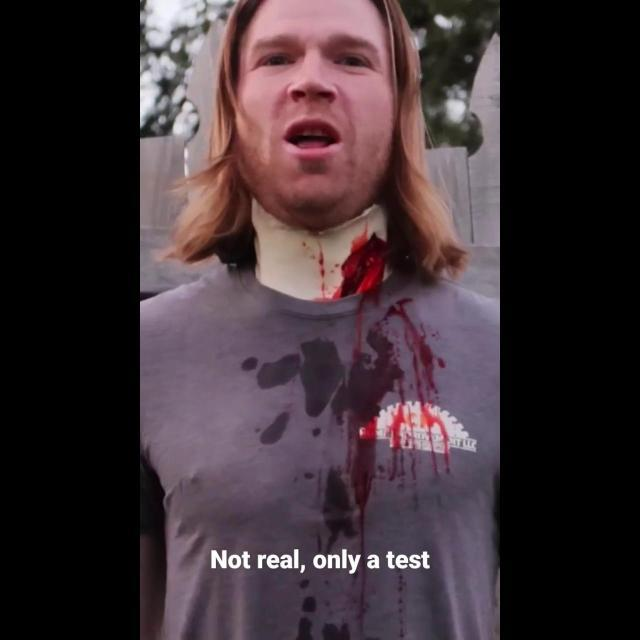blood: (345, 290, 450, 640), (332, 234, 388, 298), (311, 244, 344, 301)
